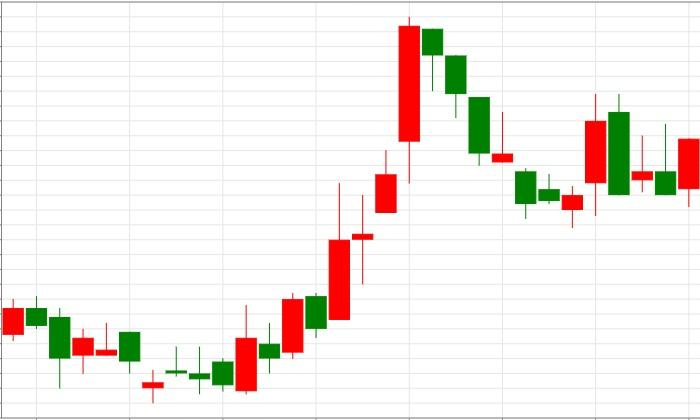three_black_crows_fall: (328, 16, 491, 321)
